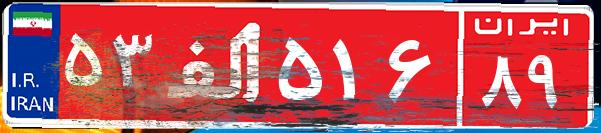1: (330, 28, 385, 110)
3: (110, 28, 158, 105)
5: (273, 28, 330, 110), (57, 26, 110, 107)
6: (385, 28, 445, 110)
8: (475, 38, 525, 113)
9: (525, 38, 570, 115)
الف: (158, 15, 273, 115)
